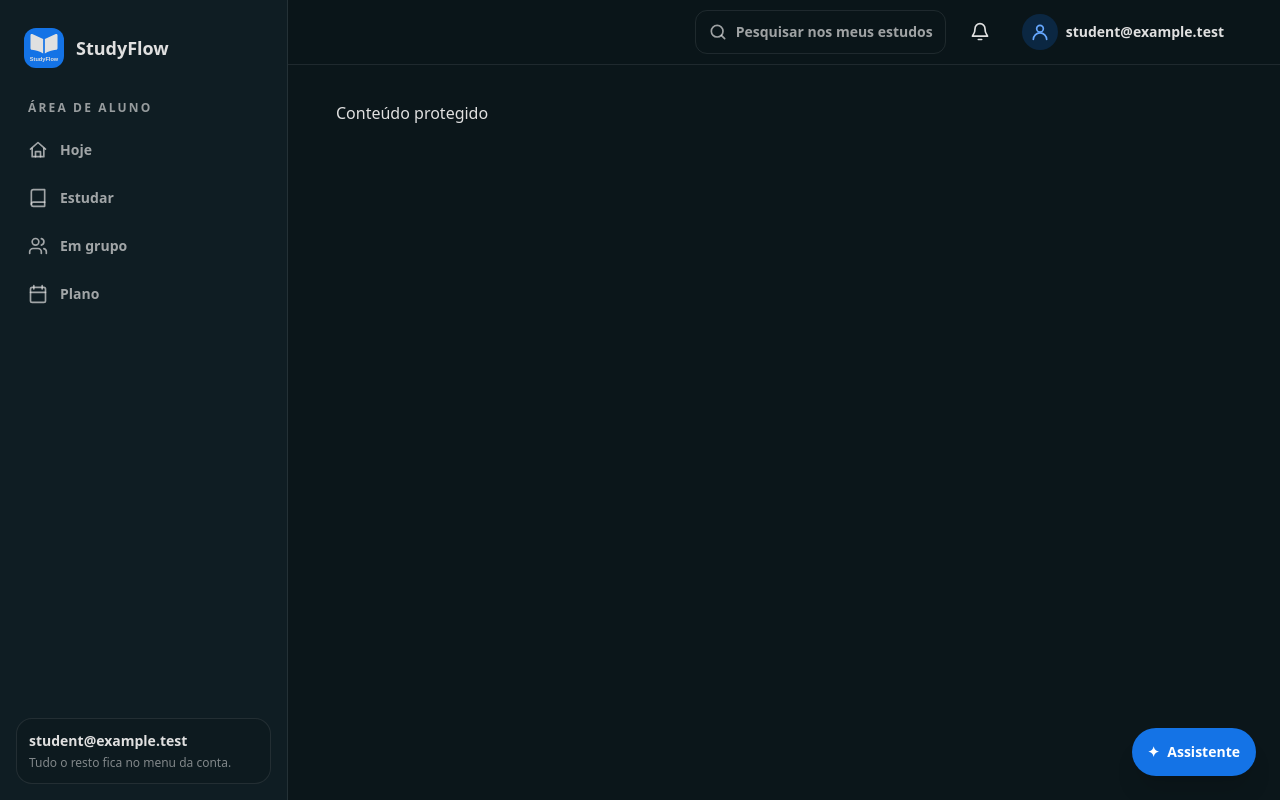
Test case: AppShell › abre e fecha o menu de conta do aluno por Escape e clique exterior
The image size is (1280, 800).
Click the button with aria-label "Conta: student@example.test". click: point(1123, 32)
box: [1014,10,1232,54]
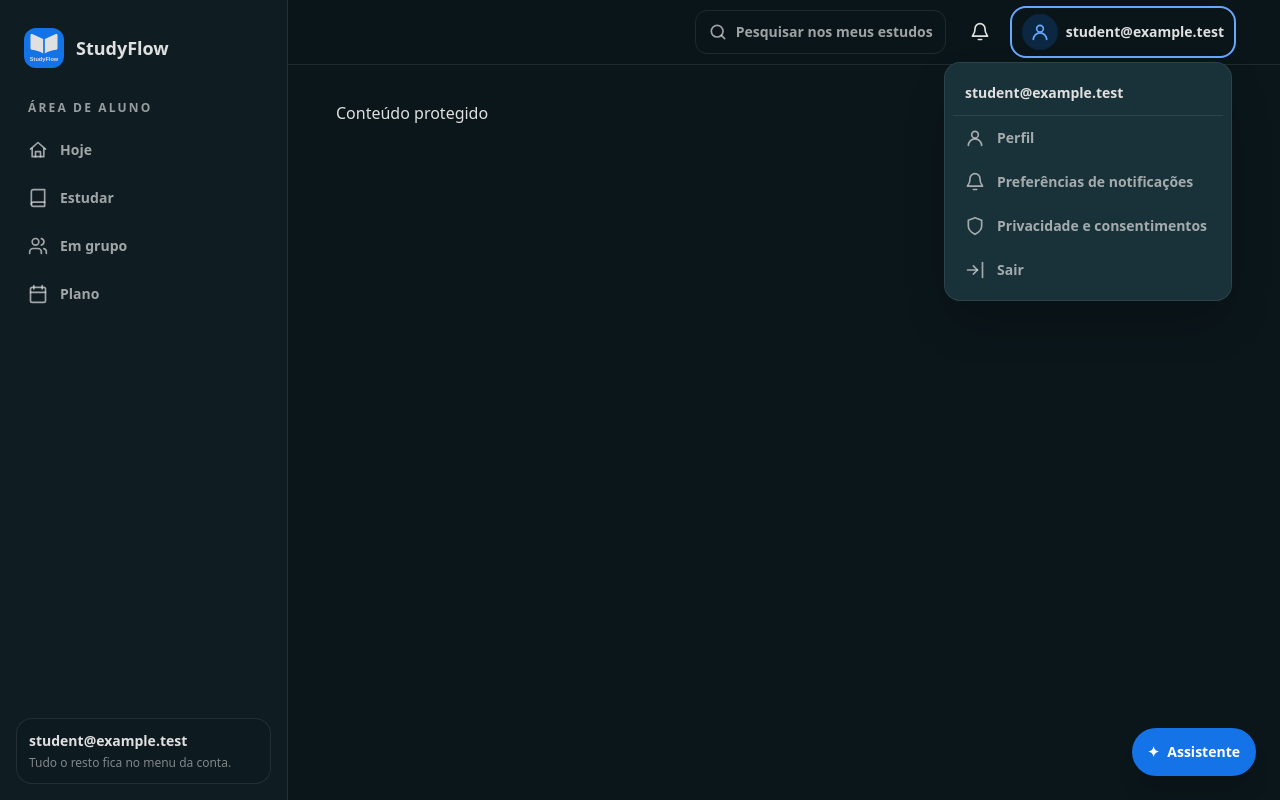
Expected: the menu is shown, [944,62,1232,301]
Expected: the menu item "Perfil" is shown, [965,128,1034,148]
Press Escape
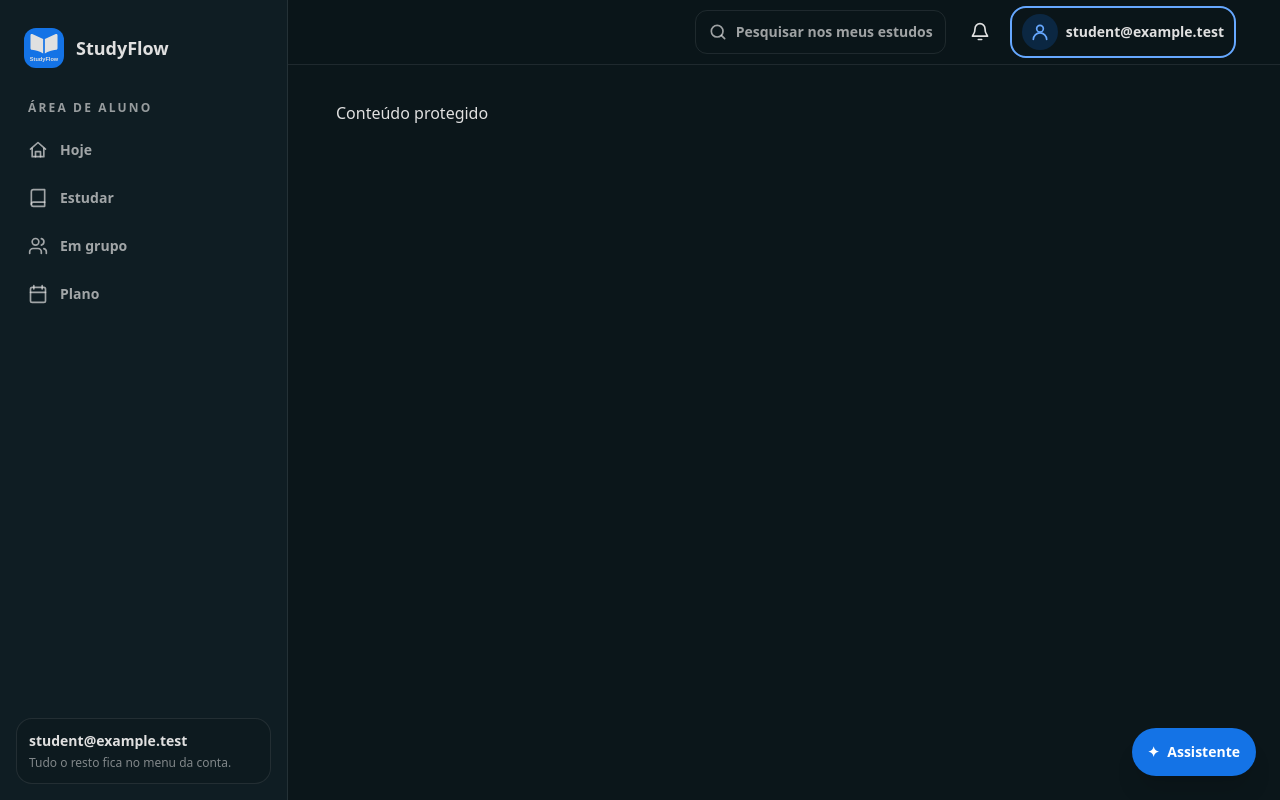
Expected: the menu is gone
Click the button with aria-label "Conta: student@example.test". click: point(1123, 32)
box: [1014,10,1232,54]
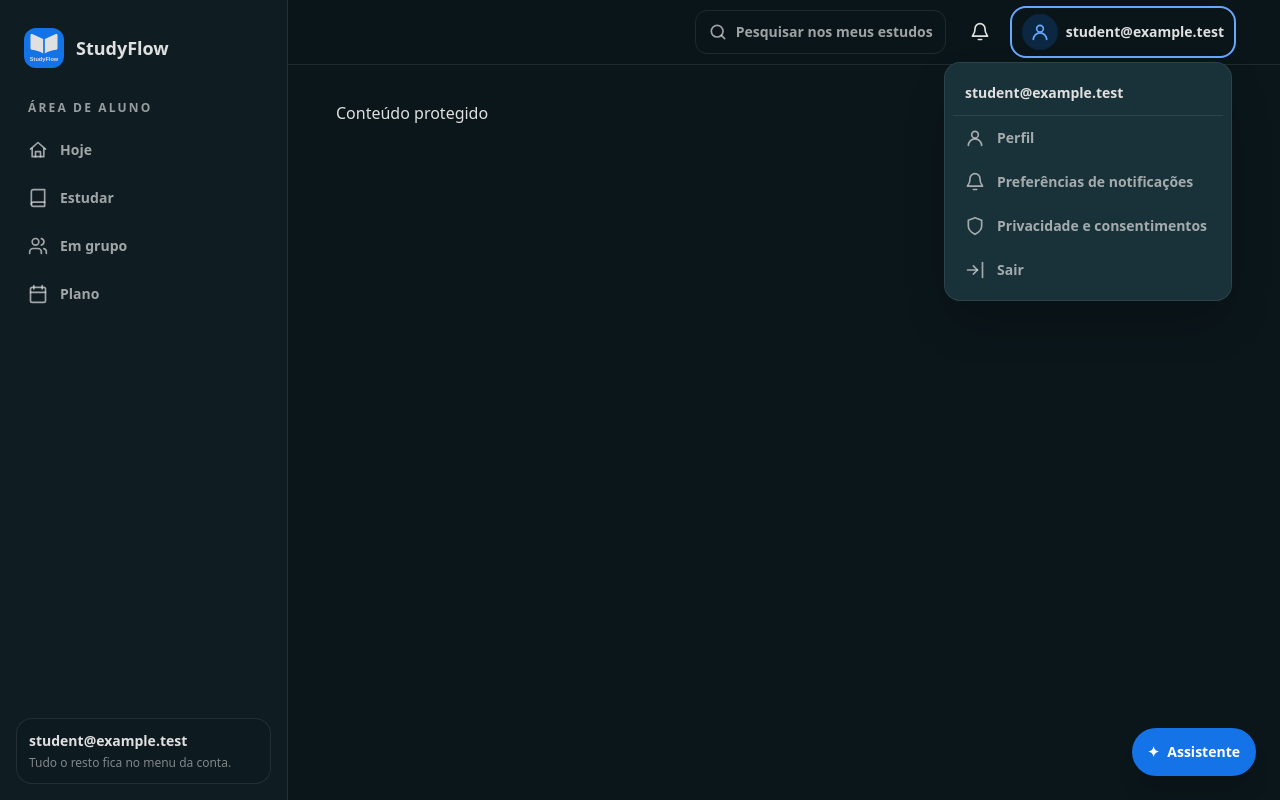
Press the mouse on the menu at point(1088, 182), box [944,62,1232,301]
Expected: the menu is shown, [944,62,1232,301]
Press the mouse on the element that starts with "Saltar para o conteúdo principal" at point(640, 400), box [0,0,1279,799]
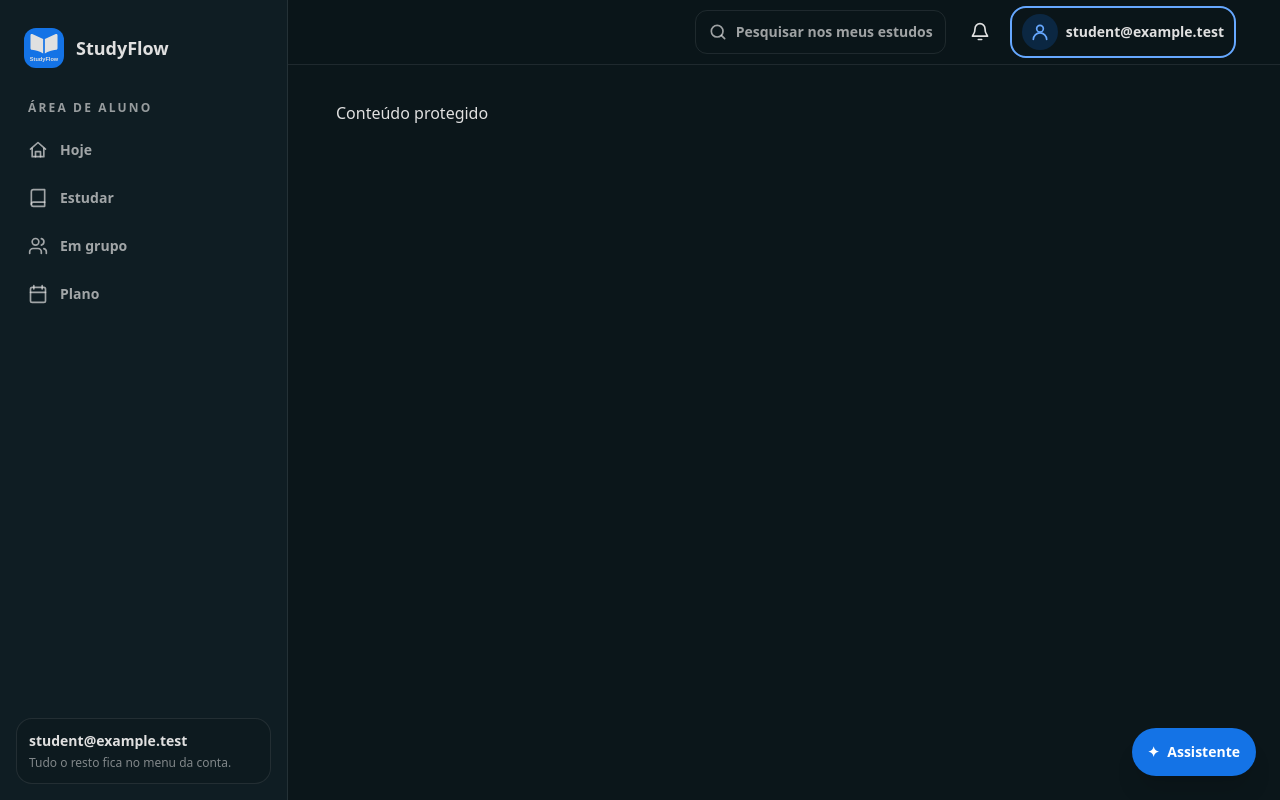
Expected: the menu is gone
